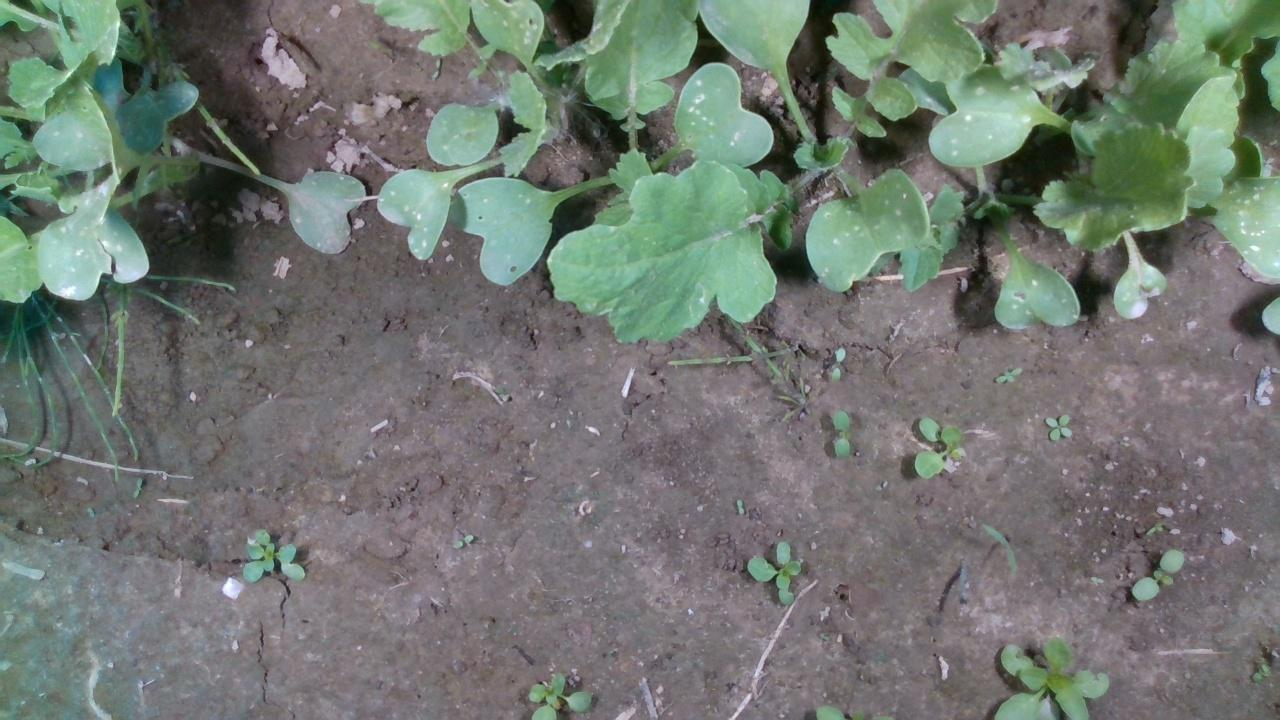weed: (1040, 411, 1076, 440), (991, 365, 1023, 386)
